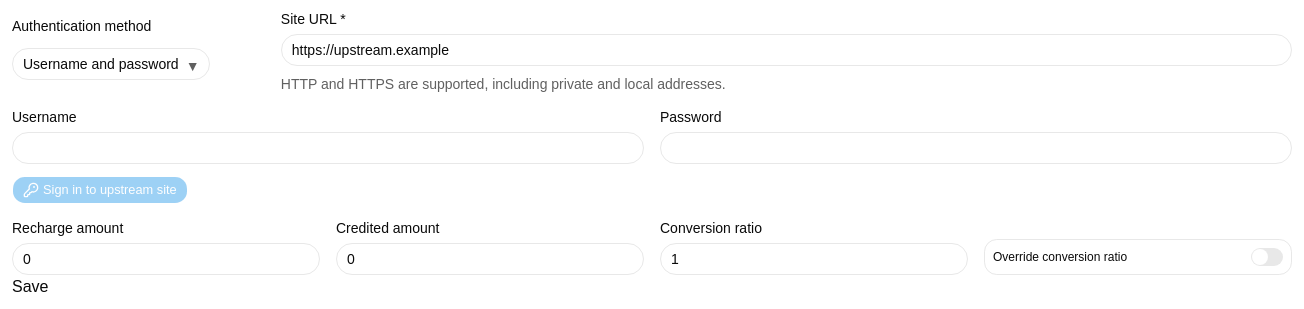
Test: 平台站点输入充值和到账金额后稳定预览自动倍率
This screenshot has width=1304, height=309.
Replace the text in the number field labelled "Recharge amount" with "1" at (166, 259), box [12,243,320,275]
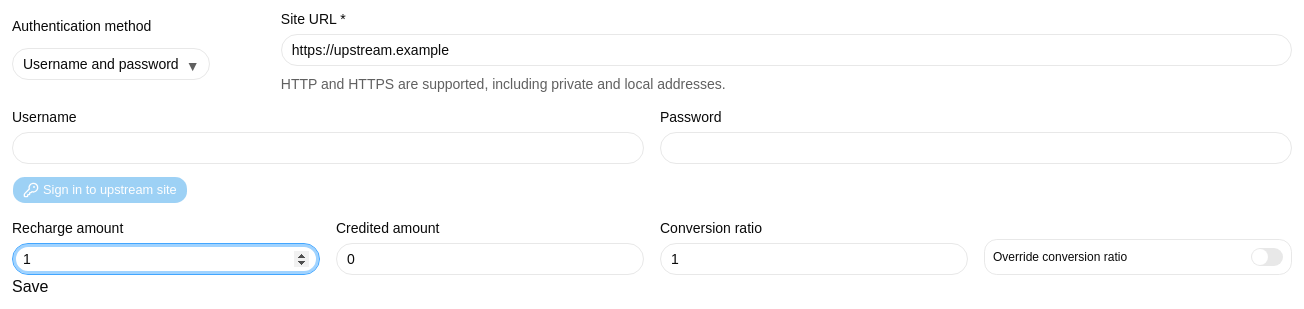
Replace the text in the number field labelled "Credited amount" with "10" at (490, 259), box [336,243,644,275]
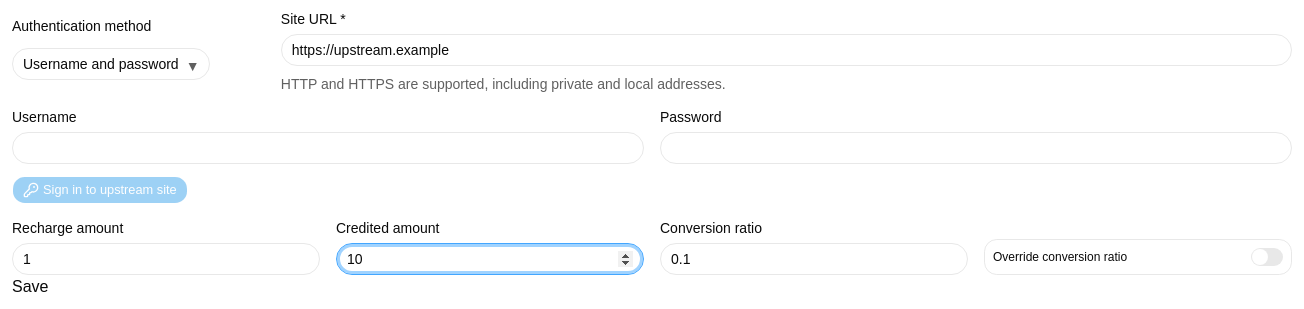
Expected: the number field labelled "Conversion ratio" holds "0.1", [660,243,968,275]
